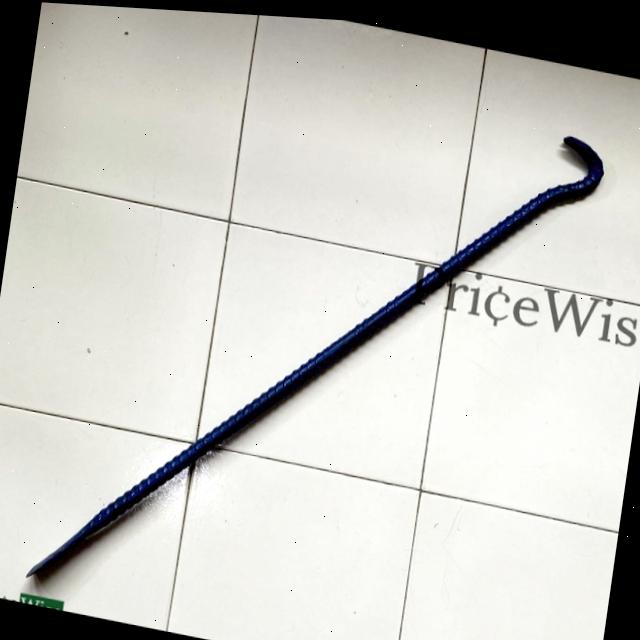crow bar: (23, 111, 617, 596)
